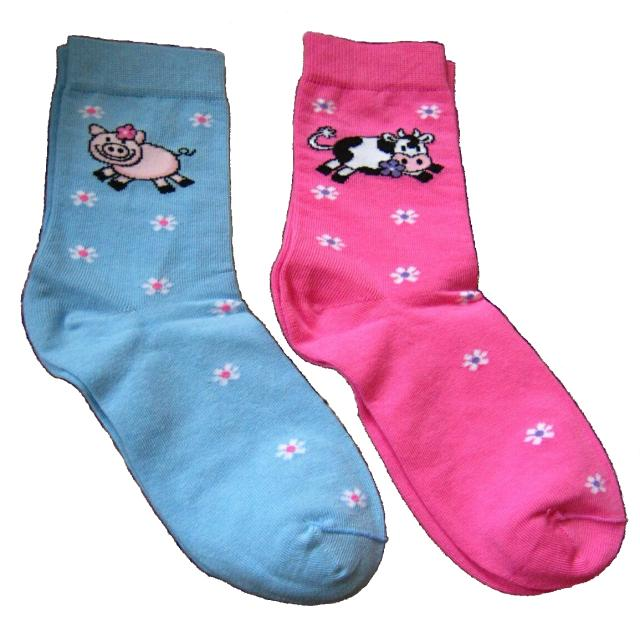sock: (20, 34, 388, 606), (268, 31, 628, 596)
